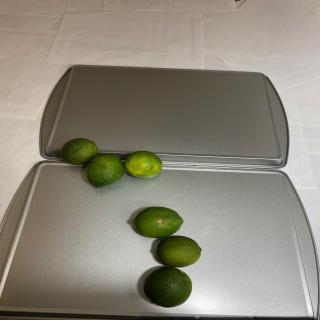Lemon: (143, 266, 192, 308), (132, 206, 183, 238), (156, 235, 202, 268), (85, 154, 125, 188), (124, 150, 162, 178), (60, 138, 98, 165)
